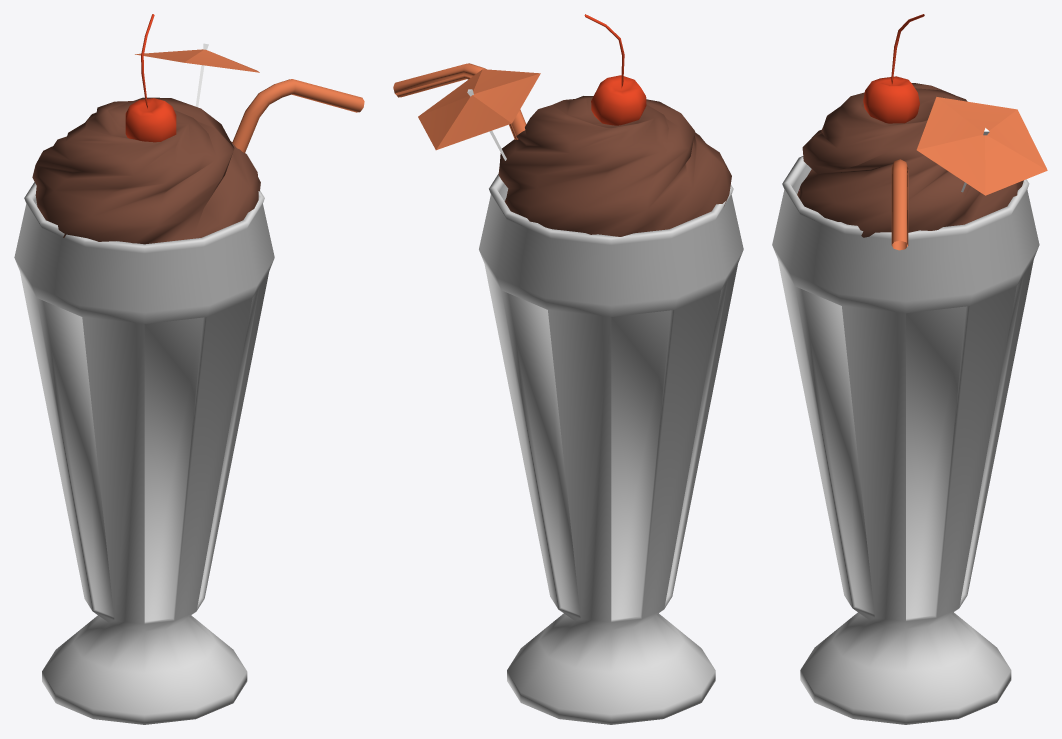
File: chocolate_milkshake.glb
3 views of the same model, side by side, from view 1: azimuth 30°, elevation 25°; view 2: azimuth 150°, elevation 25°; view 3: azimuth 270°, elevation 25° (orthographic). The views are drawn at different scales.
Parts seen in each view (by area): view 1: Cylinder_2, Icosphere_3, Cylinder.001_4, Sphere_5, Cone_7; view 2: Cylinder_2, Icosphere_3, Cone_7, Sphere_5, Cylinder.001_4; view 3: Cylinder_2, Icosphere_3, Cone_7, Sphere_5, Cylinder.001_4.
Boxes of the visible parts, left/top/right/bottom form: Cylinder_2: left=14, top=182, right=274, bottom=724; Icosphere_3: left=32, top=97, right=260, bottom=244; Cylinder.001_4: left=232, top=79, right=364, bottom=152; Sphere_5: left=125, top=14, right=176, bottom=142; Cone_7: left=135, top=49, right=259, bottom=72; Cylinder_2: left=479, top=174, right=743, bottom=724; Icosphere_3: left=498, top=96, right=731, bottom=236; Cone_7: left=418, top=69, right=540, bottom=150; Sphere_5: left=584, top=14, right=646, bottom=125; Cylinder.001_4: left=393, top=63, right=526, bottom=139; Cylinder_2: left=772, top=156, right=1039, bottom=724; Icosphere_3: left=797, top=83, right=1023, bottom=237; Cone_7: left=916, top=97, right=1047, bottom=195; Sphere_5: left=863, top=14, right=924, bottom=123; Cylinder.001_4: left=891, top=159, right=908, bottom=250.
Size of the model in its own units: 86.25 by 165 by 61.13.
